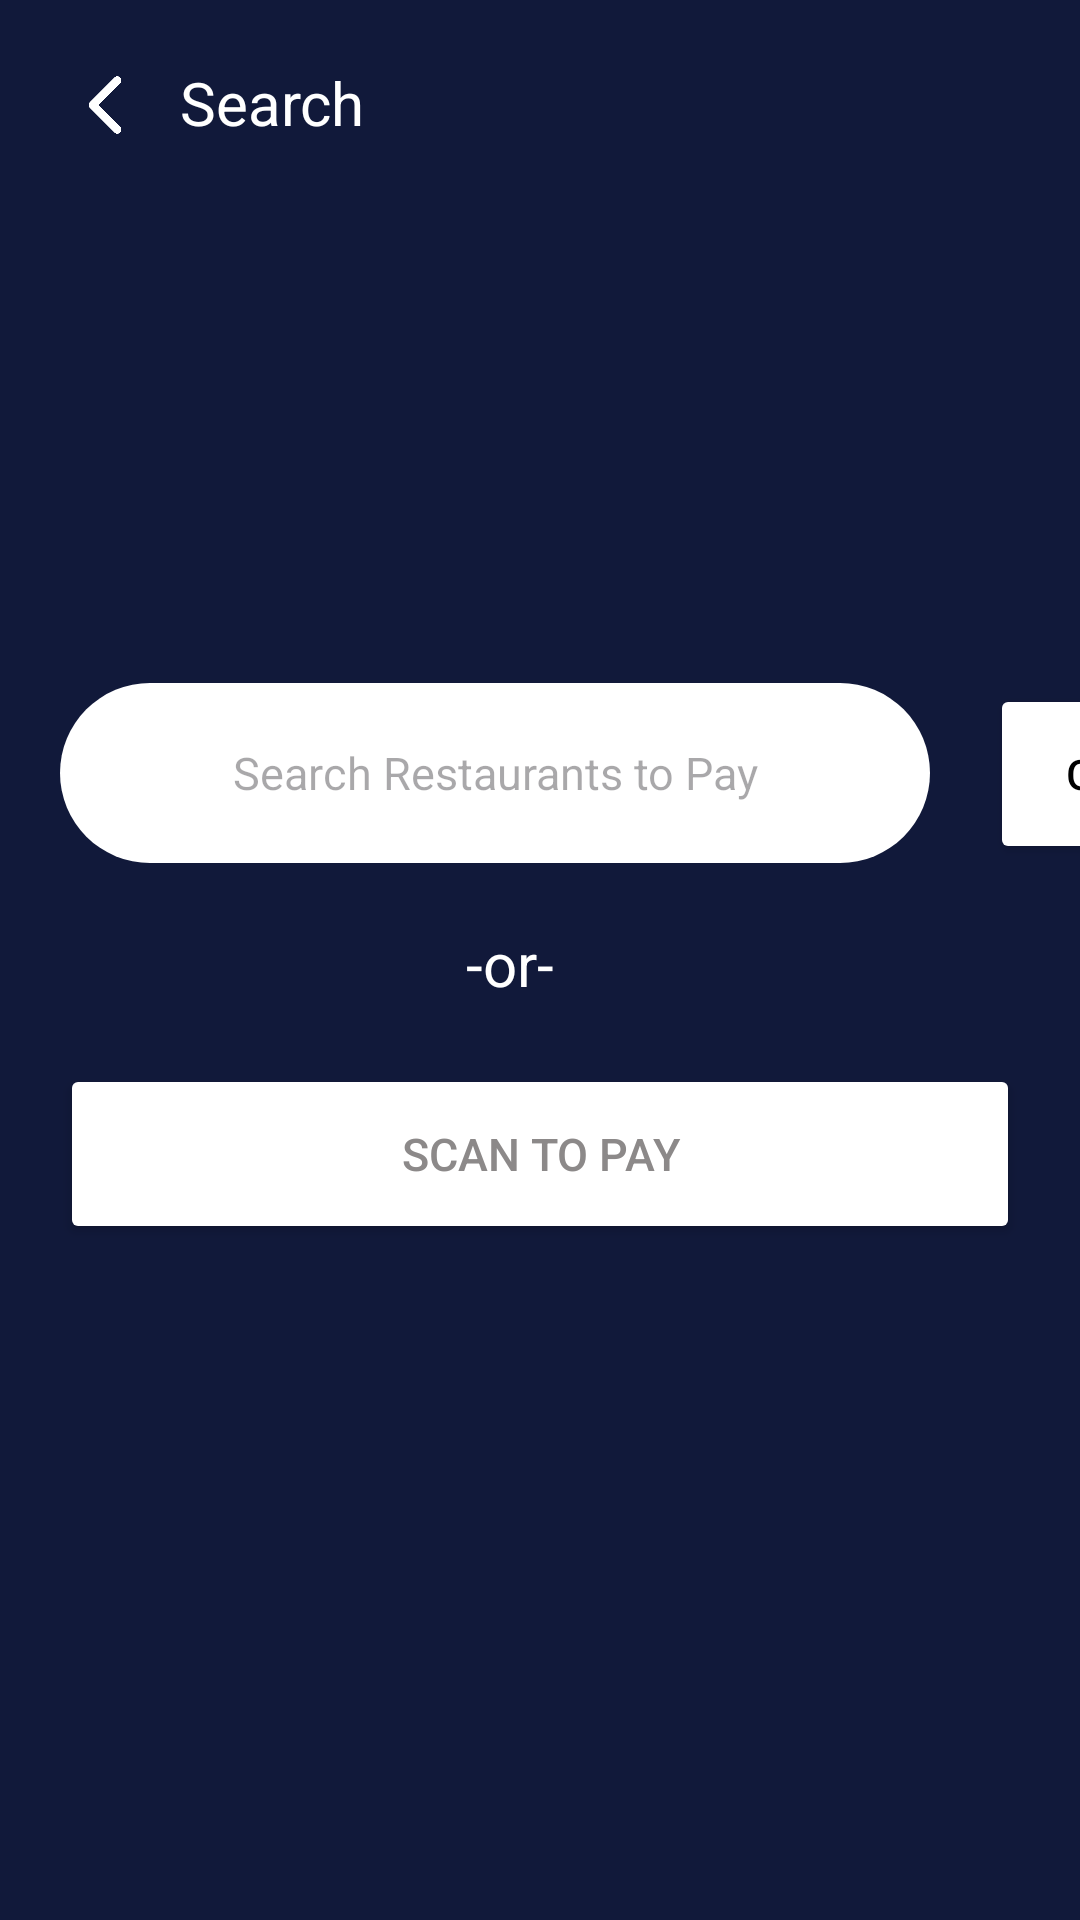

Where icons sit on this 1080x1920 app screen, as (x1, y1, x2, y2):
back: (89, 76, 121, 134)
